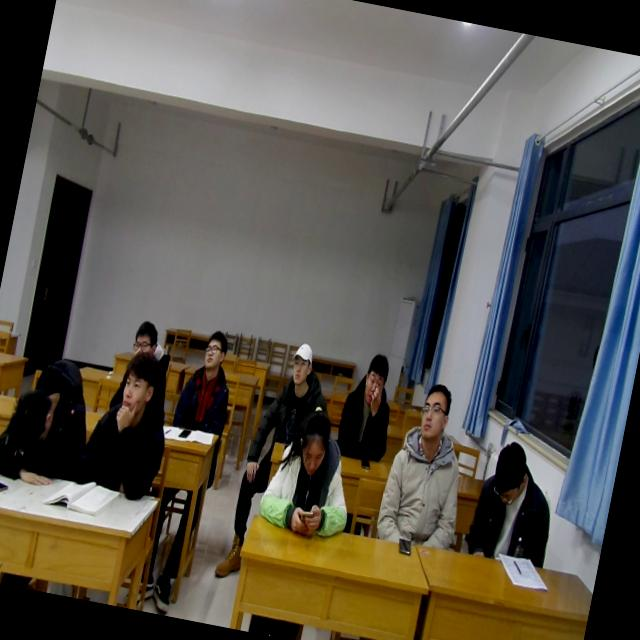bow: (0, 343, 103, 492)
down: (289, 396, 342, 486), (484, 436, 534, 512)
lookup: (115, 342, 165, 430), (412, 375, 458, 447), (358, 347, 395, 411), (283, 336, 322, 392), (198, 325, 232, 376), (129, 316, 161, 360)
sit: (372, 374, 486, 558), (69, 342, 183, 502), (255, 394, 369, 544), (464, 432, 570, 572), (328, 344, 406, 466), (168, 318, 246, 439), (255, 336, 334, 450), (115, 311, 178, 396)
